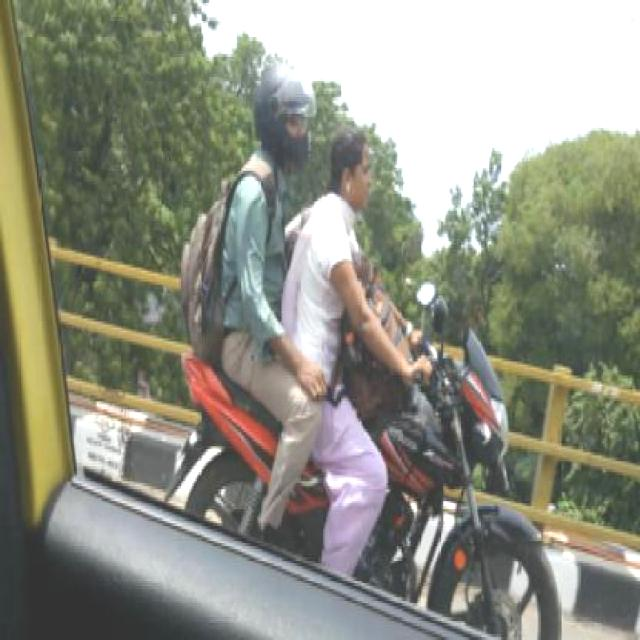With Helmet: (251, 52, 318, 180)
Without Helmet: (326, 116, 385, 222)
